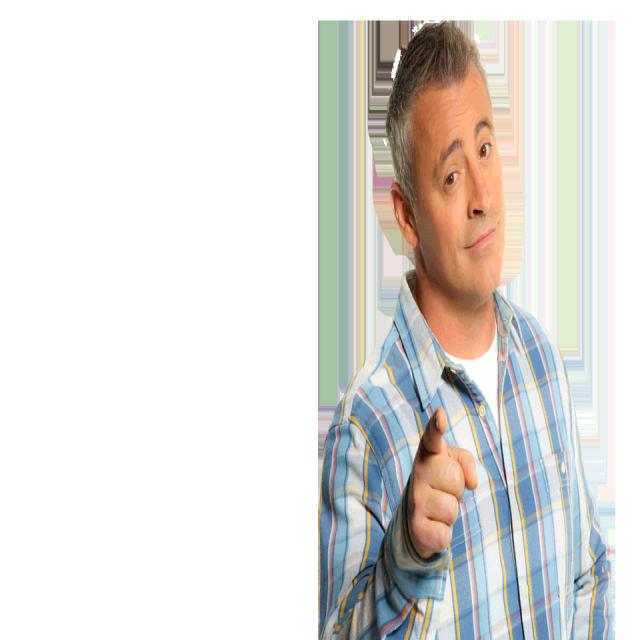mobile_phonerotation: (317, 20, 614, 638)
